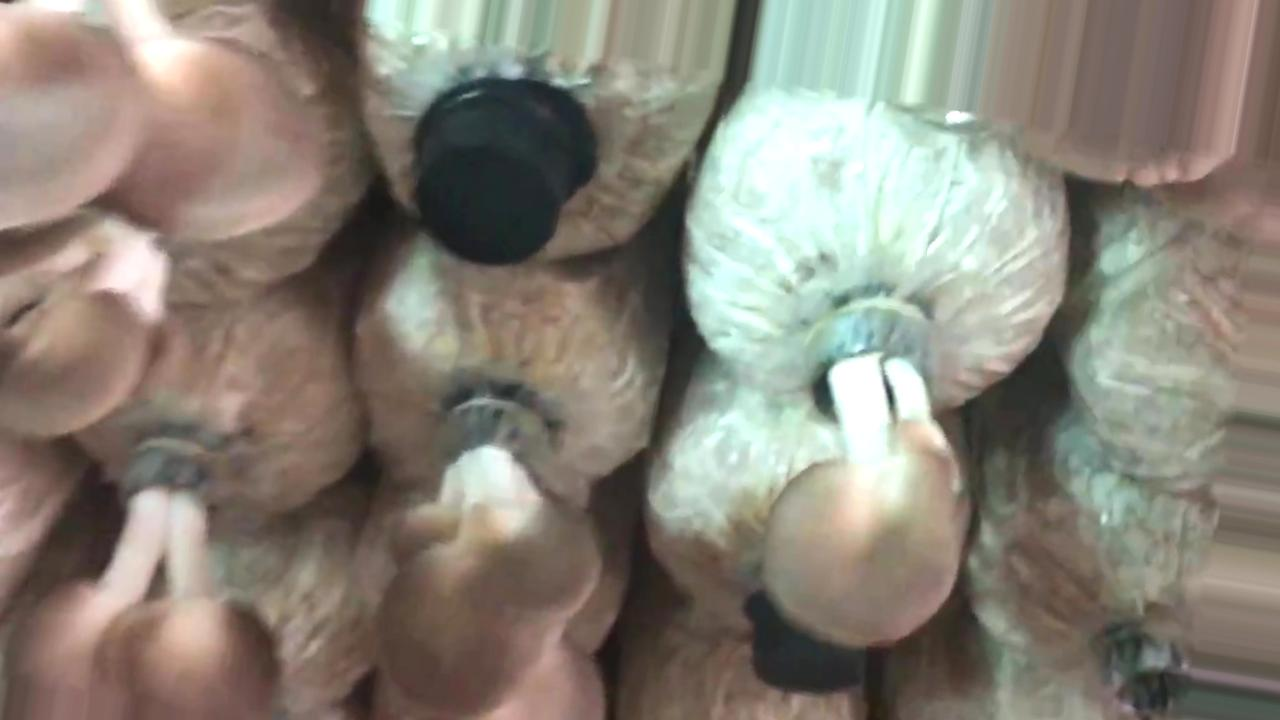nam: (1, 1, 322, 241), (379, 400, 603, 720), (30, 434, 277, 719), (765, 307, 963, 646), (982, 1, 1258, 185), (1, 221, 173, 442)
